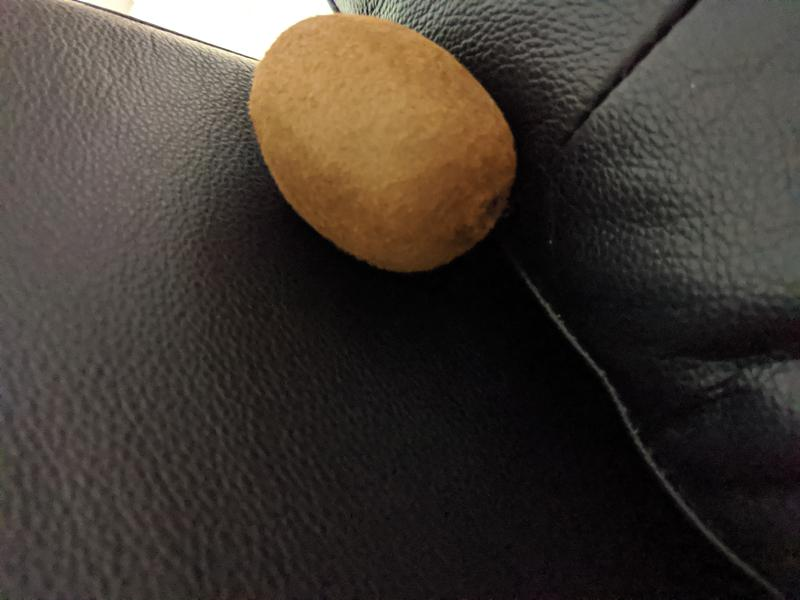kiwi: (249, 14, 519, 274)
